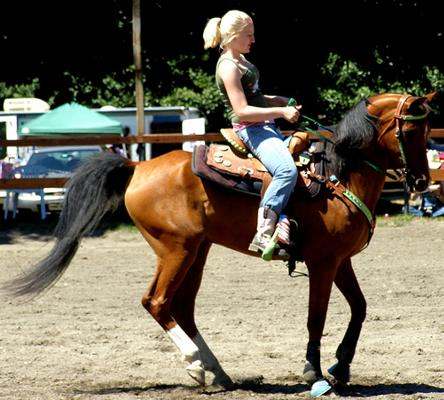person: (203, 9, 302, 262)
